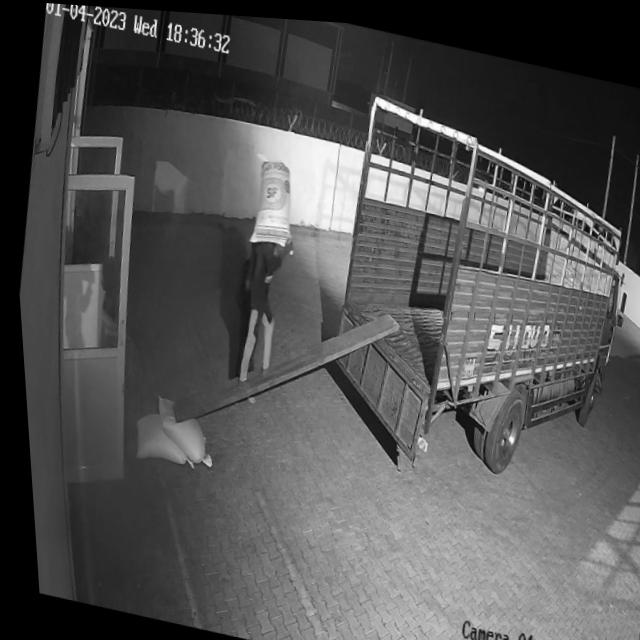sack: (241, 151, 299, 247), (143, 389, 214, 463), (124, 407, 195, 466)
